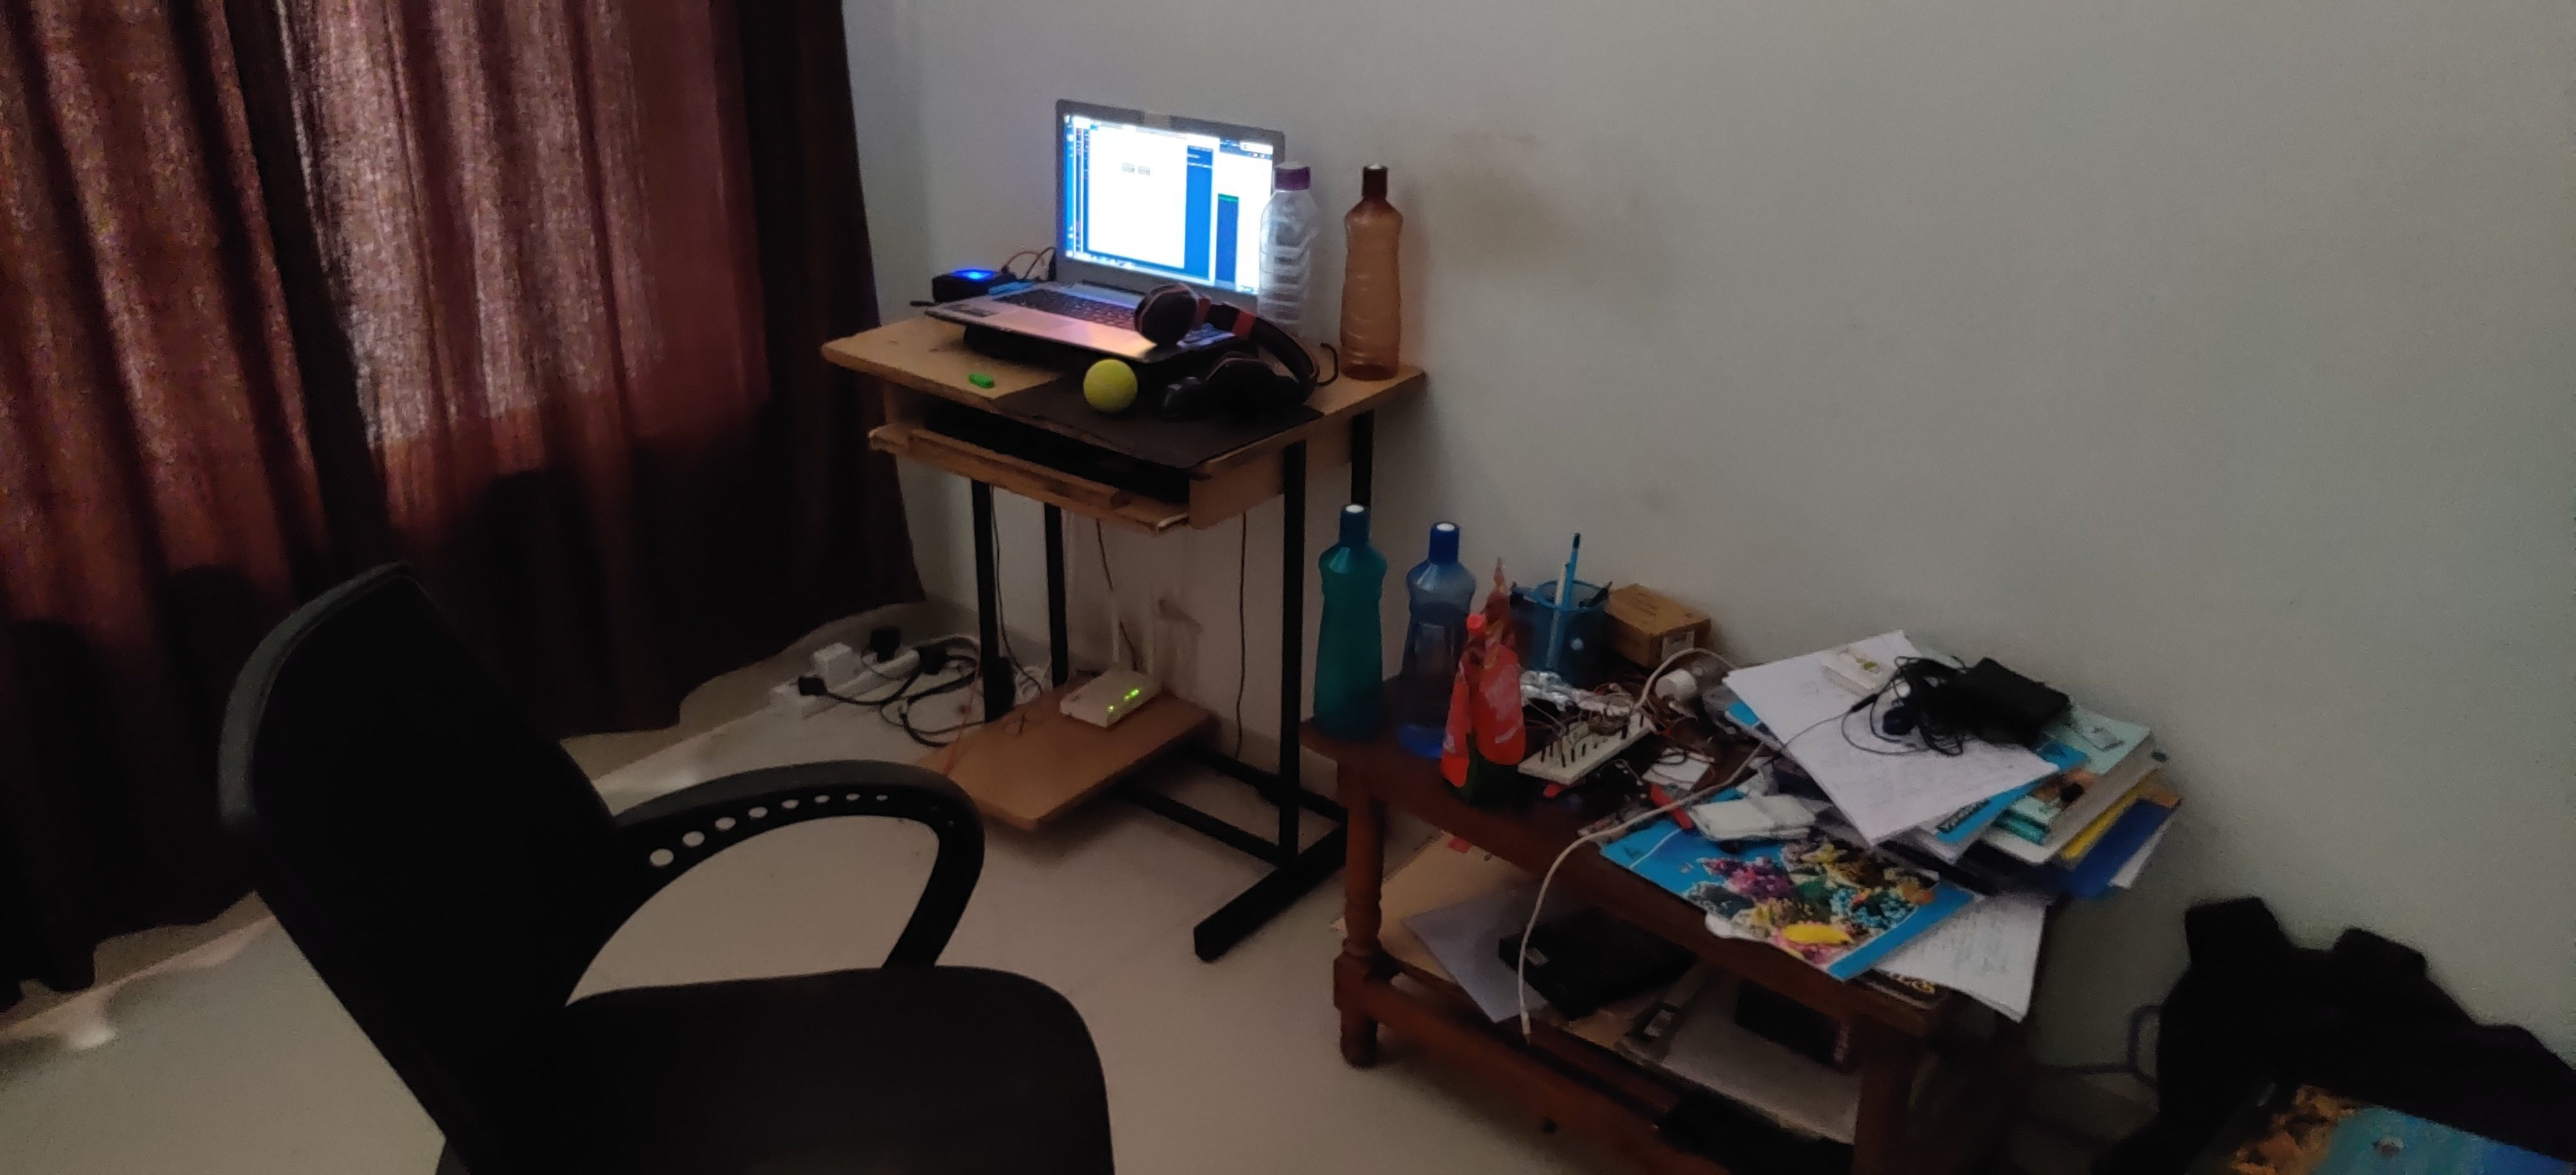Tennis-Ball: (1083, 360, 1138, 412)
